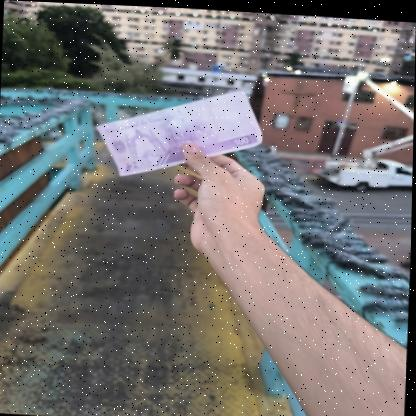one_hundred-back-vef: (92, 78, 265, 183)
